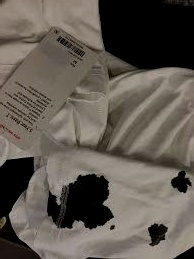ink: (53, 175, 112, 228), (169, 171, 192, 194), (148, 223, 168, 246)
